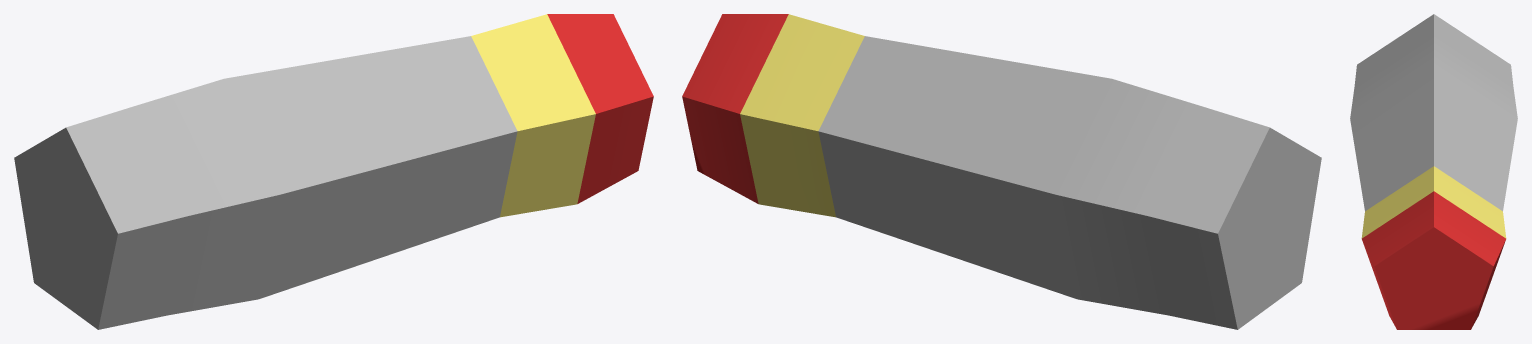
The model's file is Cigarette.fbx.
3 views of the same model, side by side, from view 1: azimuth 30°, elevation 25°; view 2: azimuth 150°, elevation 25°; view 3: azimuth 270°, elevation 25° (orthographic). The views are drawn at different scales.
Visible parts, largest first — view 1: cigarette; view 2: cigarette; view 3: cigarette.
Boxes of the visible parts, left/top/right/bottom form: cigarette: left=14, top=14, right=653, bottom=329; cigarette: left=682, top=14, right=1321, bottom=329; cigarette: left=1350, top=14, right=1517, bottom=329.
Size of the model in its own units: 0.3718 by 0.1265 by 0.133.
